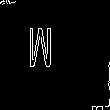M_S: (42, 29, 68, 81)
